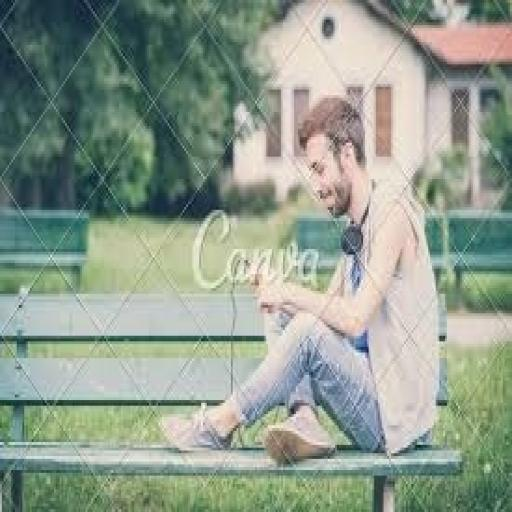listening_to_music: (158, 92, 443, 470)
